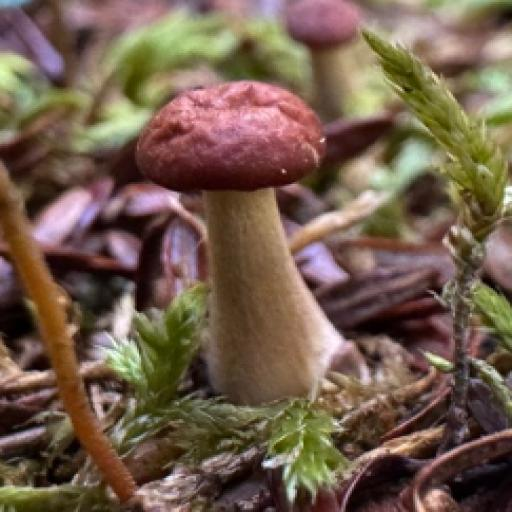mushroom: (127, 74, 351, 343)
